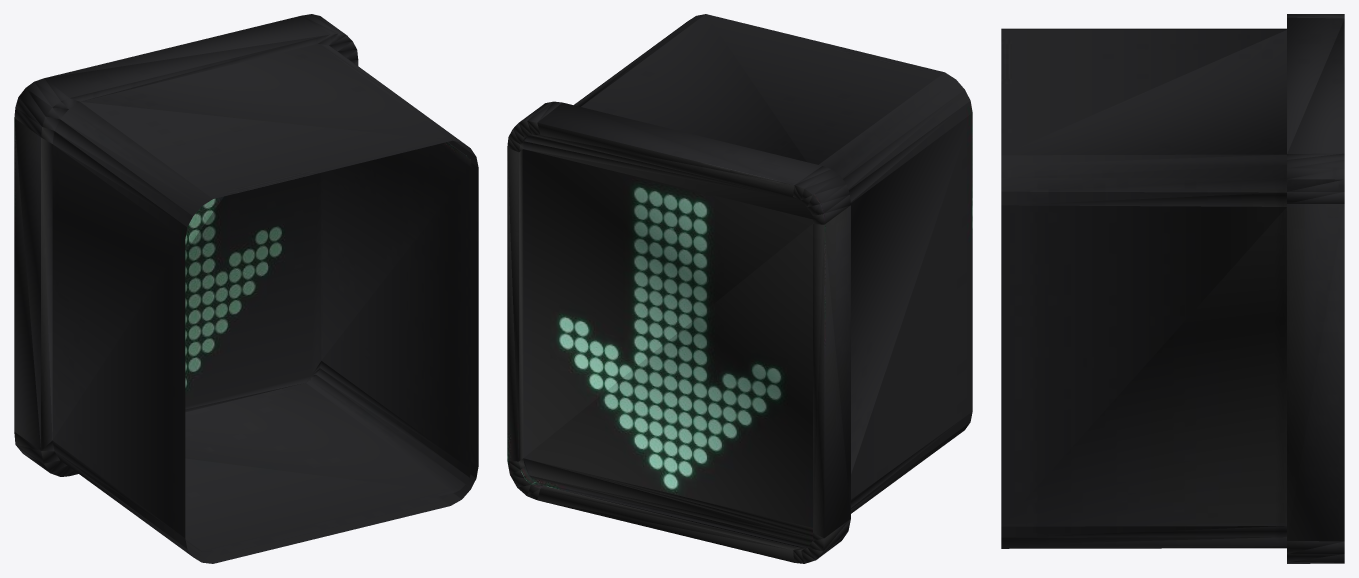
Rendered from signal_head.glb.
The picture shows the model from 3 angles, left to right: view 1: azimuth 30°, elevation 25°; view 2: azimuth 150°, elevation 25°; view 3: azimuth 270°, elevation 25°; orthographic projection. The views are drawn at different scales.
Visible parts, largest first — view 1: Prop_signal_head; view 2: Prop_signal_head; view 3: Prop_signal_head.
Boxes of the visible parts, x1,y1,x2,y2 form: Prop_signal_head: (14,14,478,563); Prop_signal_head: (507,14,972,563); Prop_signal_head: (1001,14,1344,563).
Size of the model in its own units: 1.14 by 1.3 by 0.9958.
1 material, 1 textured.
